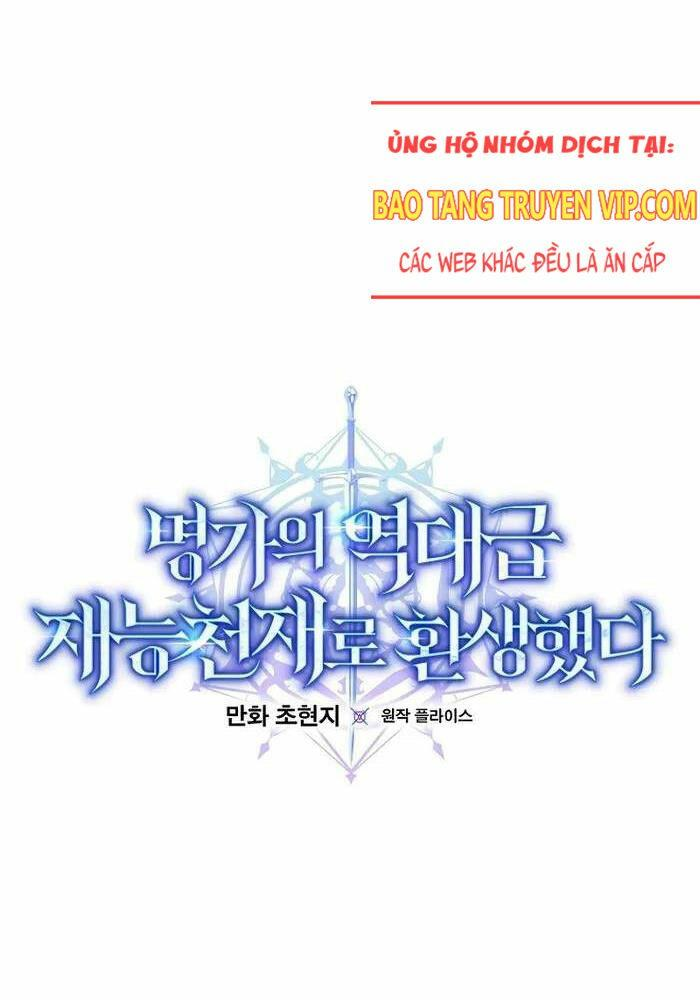quangcao: (371, 101, 700, 297)
